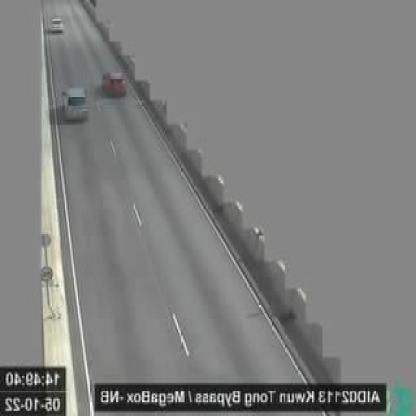Car: (64, 87, 90, 123), (100, 69, 126, 99), (52, 16, 65, 34)
